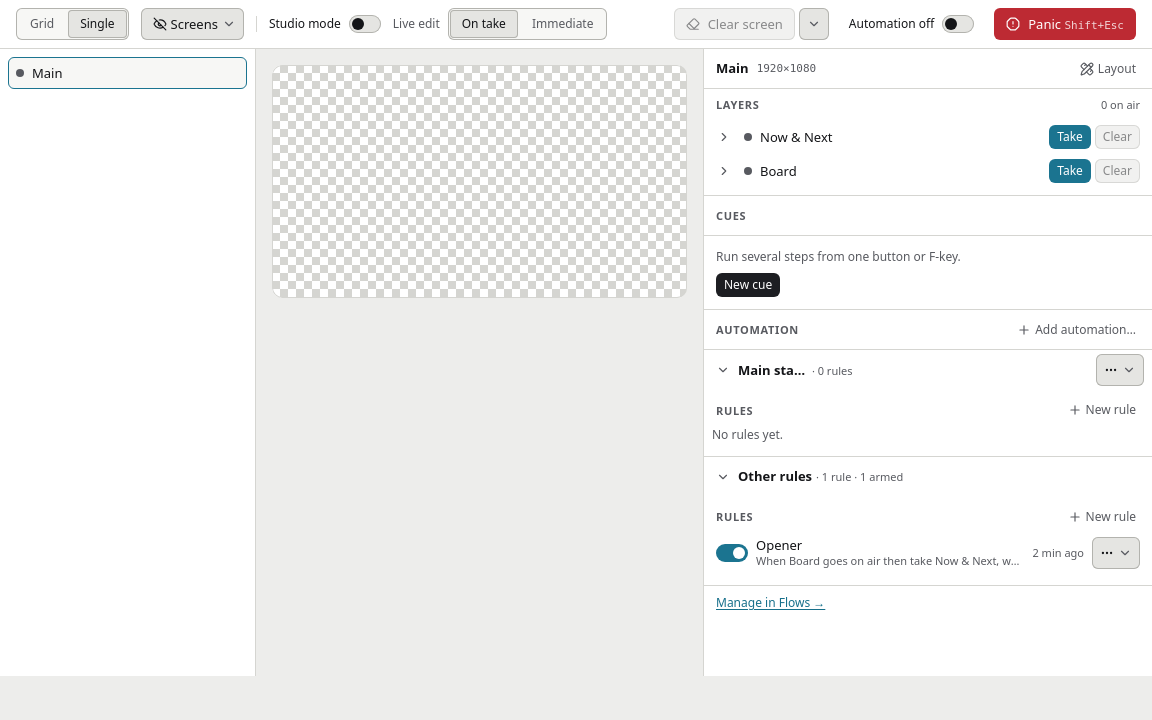
Test: linear editor: Run flow and Stop flow › Run flow with no other flow points at Repeat; Stop flow can stop this flow
Check: the button "Main stage · 0 rules" is shown, box [712,354,1092,386]
Click the button named "Actions for Opener" at (1116, 553), box [1092,537,1140,569]
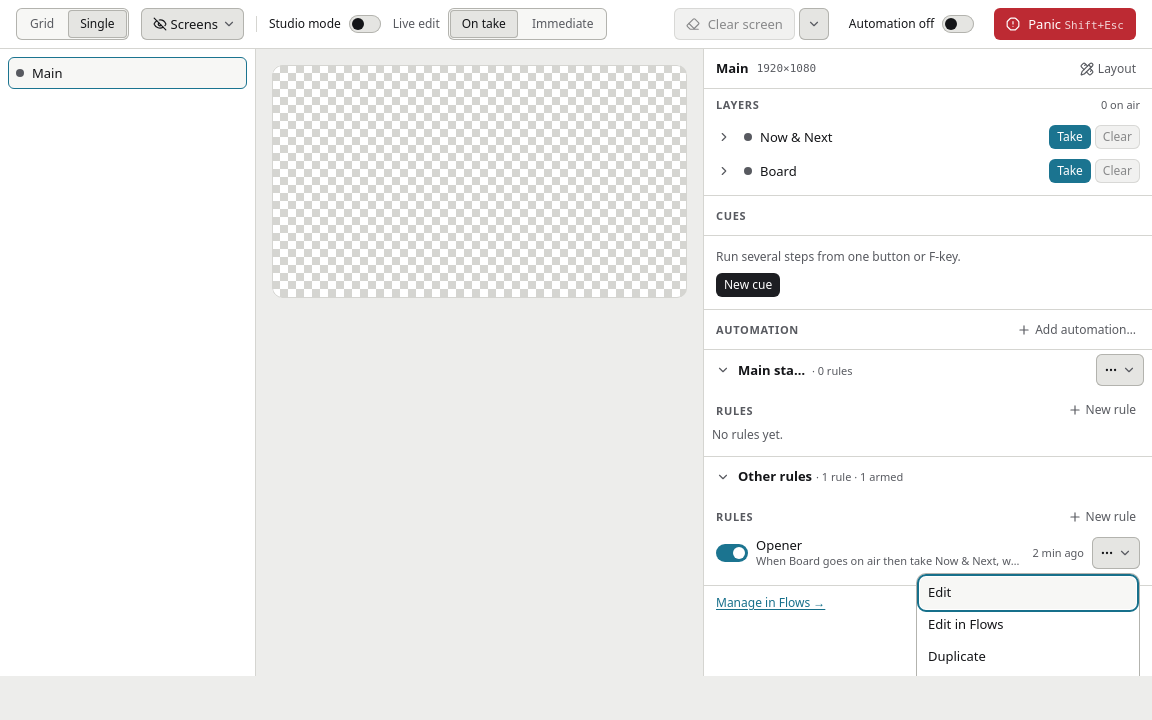
Click the menu item "Edit" at (1028, 593), box [920,577,1136,609]
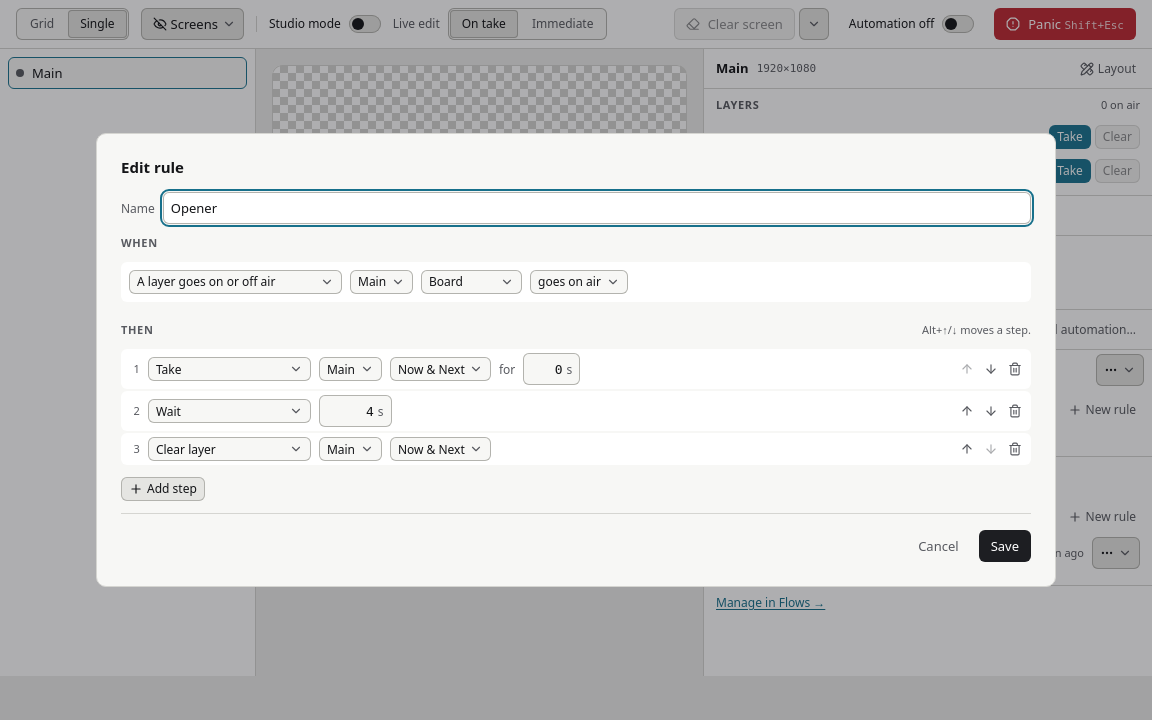
Select "Run flow" in the dropdown named "Step 3 type" at (229, 449), box [148,437,311,461]
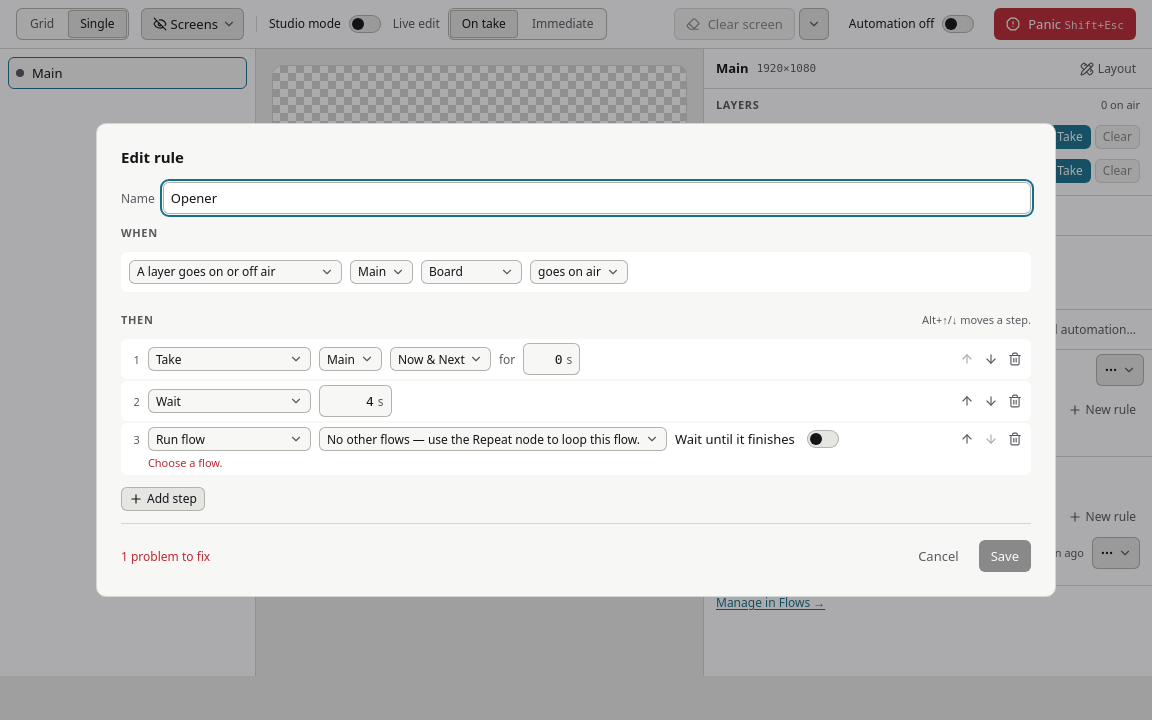
Select "Stop flow" in the dropdown named "Step 3 type" at (229, 440), box [148,428,311,452]
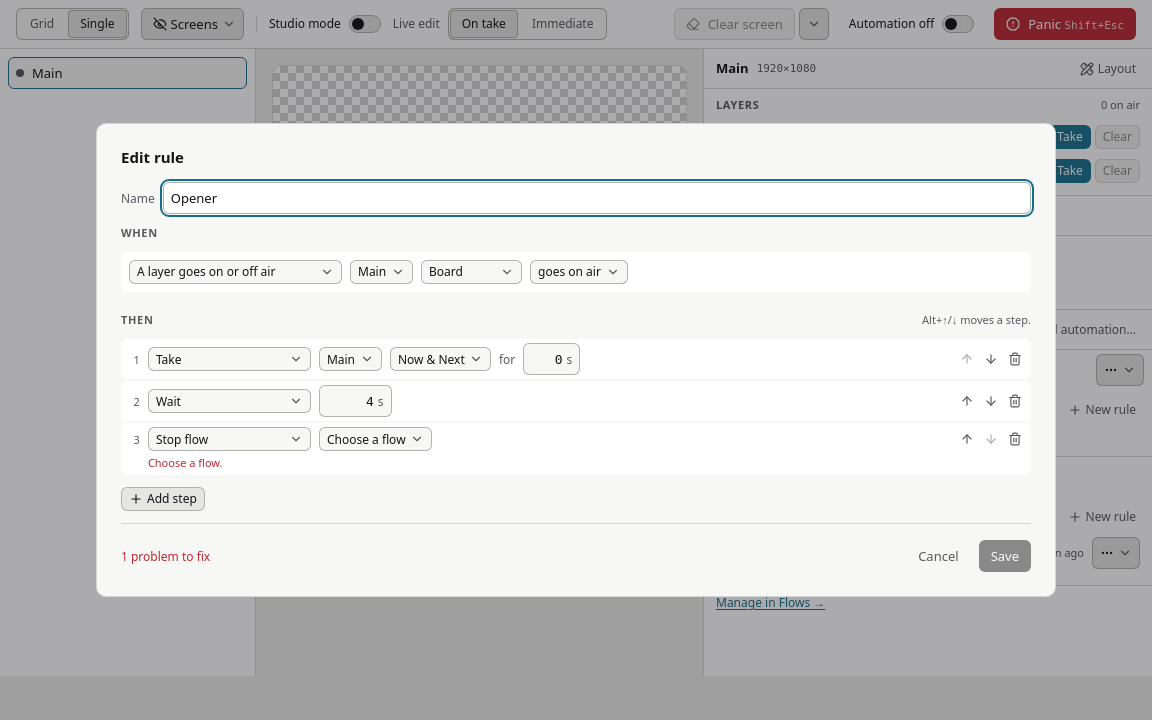
Select "This flow" in the dropdown named "Step 3 flow to stop" at (375, 440), box [319,428,432,452]
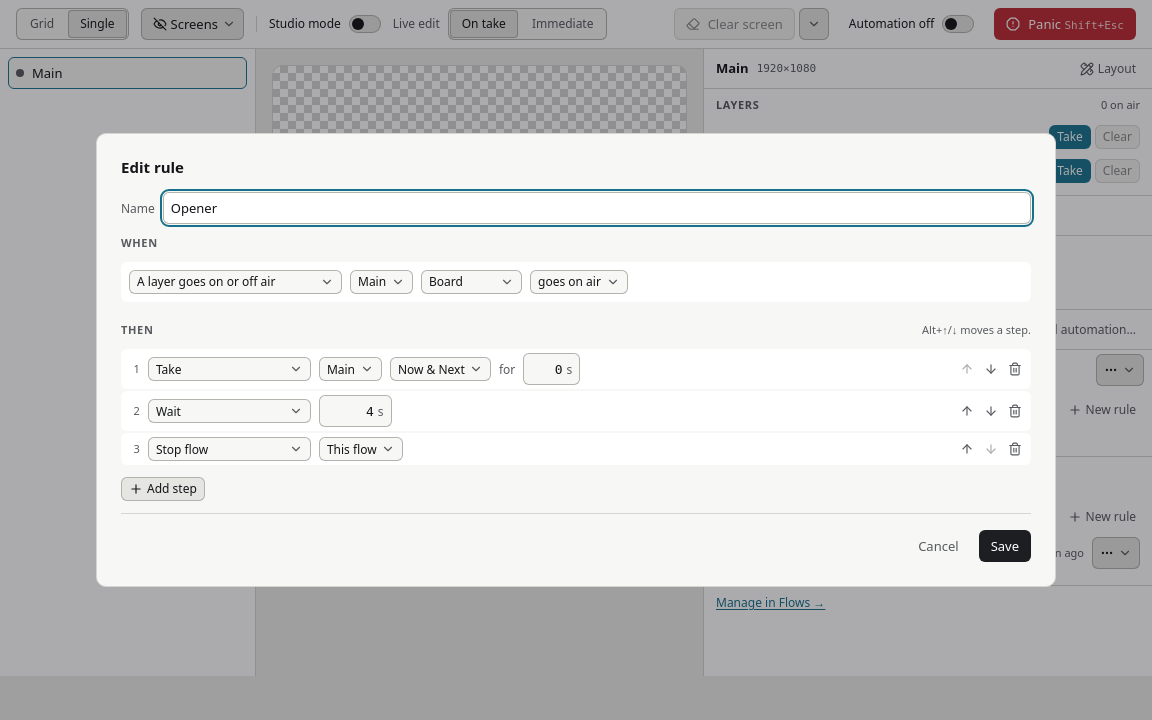
Check: the button "Save" is enabled
Click the button "Save" at (1005, 546), box [979,530,1031,562]
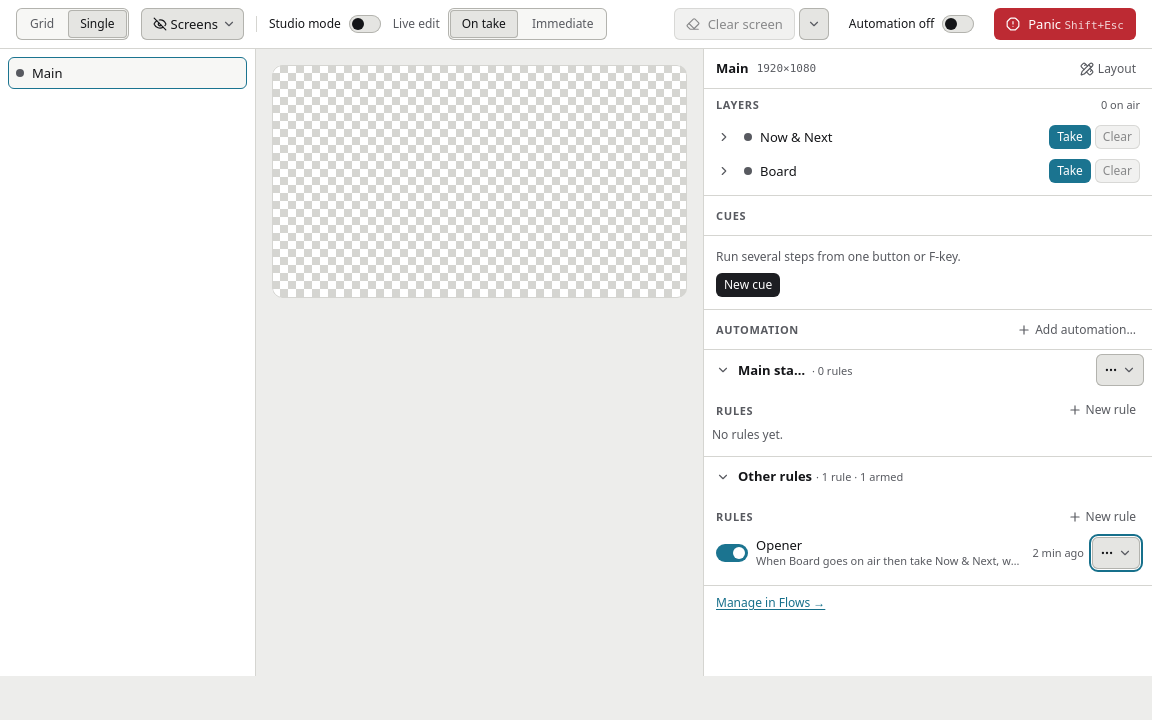
Check: the heading "Edit rule" is gone
